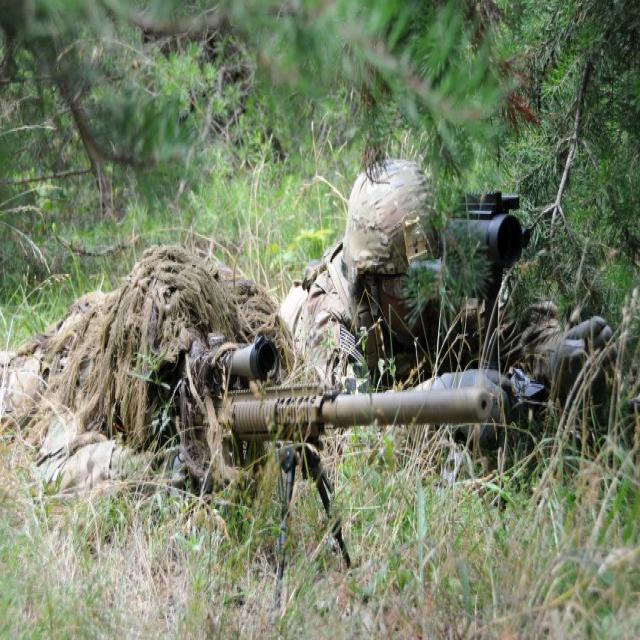Camouflage: (6, 241, 493, 608)
Human: (284, 161, 614, 474)
